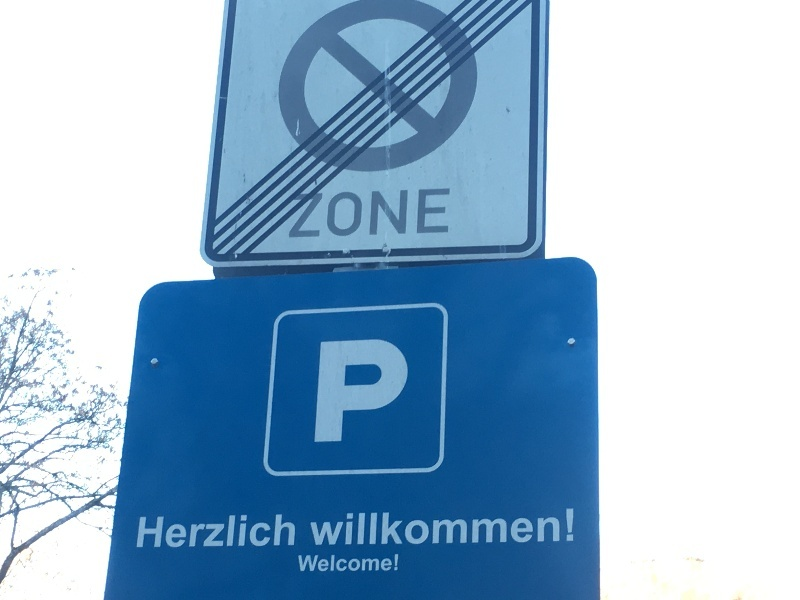text: (321, 339, 336, 447), (337, 339, 352, 447), (353, 339, 368, 447), (369, 339, 384, 447), (385, 339, 400, 447), (401, 339, 410, 447), (305, 188, 320, 241), (321, 188, 336, 241), (337, 188, 352, 241), (353, 188, 368, 241), (369, 188, 384, 241), (385, 188, 400, 241), (401, 188, 416, 241), (417, 188, 432, 241), (433, 188, 448, 241), (292, 188, 304, 241), (321, 509, 336, 547), (337, 509, 352, 547), (353, 509, 368, 547), (369, 509, 384, 547), (385, 509, 400, 547), (401, 509, 416, 547), (417, 509, 432, 547), (433, 509, 448, 547), (449, 509, 464, 547), (465, 509, 480, 547), (481, 509, 496, 547), (497, 509, 512, 547), (513, 509, 528, 547), (529, 509, 544, 547), (545, 509, 560, 547), (561, 509, 575, 547), (145, 514, 160, 549), (161, 514, 176, 549), (177, 514, 192, 549), (193, 514, 208, 549), (209, 514, 224, 549), (225, 514, 240, 549), (241, 514, 256, 549), (257, 514, 272, 549), (273, 514, 288, 549), (309, 509, 320, 547), (385, 554, 401, 574), (305, 554, 320, 574), (321, 554, 336, 574), (337, 554, 352, 574), (353, 554, 368, 574), (369, 554, 384, 574), (289, 514, 297, 549), (139, 514, 144, 549), (298, 554, 304, 574), (449, 188, 451, 241)
